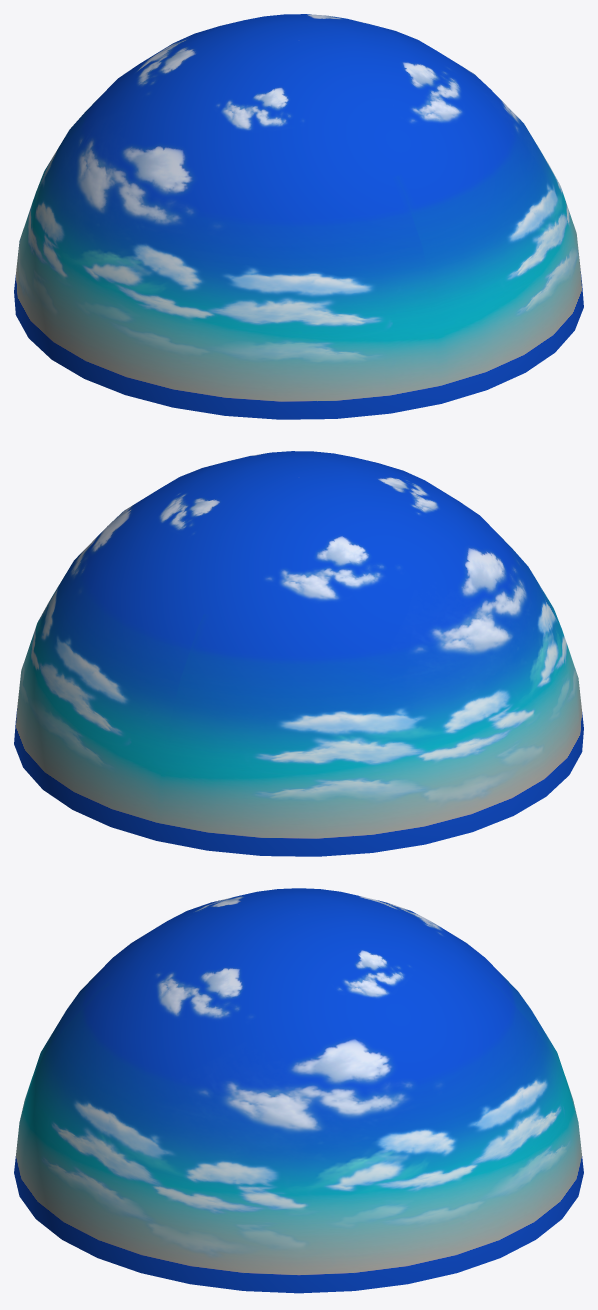
The model's file is HB_Item_tiankong.FBX.
The picture shows the model from 3 angles, top to bottom: view 1: azimuth 30°, elevation 25°; view 2: azimuth 150°, elevation 25°; view 3: azimuth 270°, elevation 25°; orthographic projection.
Parts seen in each view (by area): view 1: HB_Item_tiankong001; view 2: HB_Item_tiankong001; view 3: HB_Item_tiankong001.
Boxes of the visible parts, x1,y1,x2,y2 form: HB_Item_tiankong001: [14, 14, 583, 419]; HB_Item_tiankong001: [14, 451, 583, 856]; HB_Item_tiankong001: [14, 888, 583, 1293].
Bounding box in the file's own units: 117 × 60.37 × 117.
